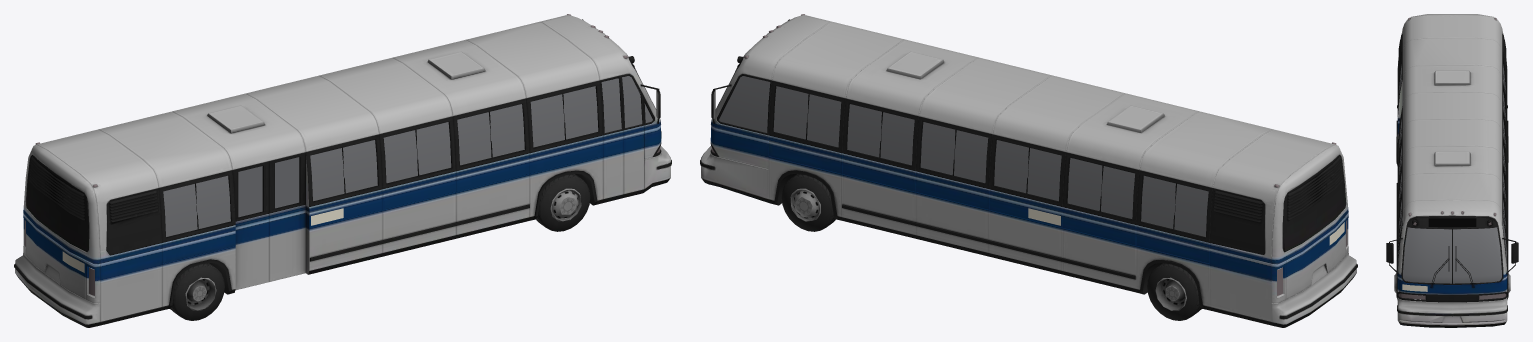
File: civ-citybus.lod0.glb
The picture shows the model from 3 angles, left to right: view 1: azimuth 30°, elevation 25°; view 2: azimuth 150°, elevation 25°; view 3: azimuth 270°, elevation 25°; orthographic projection. The views are drawn at different scales.
Parts seen in each view (by area): view 1: citybus_citybus_0, citybus_citybus_glass_0; view 2: citybus_citybus_0, citybus_citybus_glass_0; view 3: citybus_citybus_0, citybus_citybus_glass_0.
Boxes of the visible parts, left/top/right/bottom form: citybus_citybus_0: left=14, top=15, right=671, bottom=327; citybus_citybus_glass_0: left=24, top=14, right=661, bottom=295; citybus_citybus_0: left=700, top=15, right=1357, bottom=327; citybus_citybus_glass_0: left=711, top=14, right=1347, bottom=295; citybus_citybus_0: left=1386, top=14, right=1518, bottom=327; citybus_citybus_glass_0: left=1398, top=17, right=1506, bottom=299.
Bounding box in the file's own units: 9.94 × 2.52 × 2.52.
Materials: 2 (1 with a texture image).
